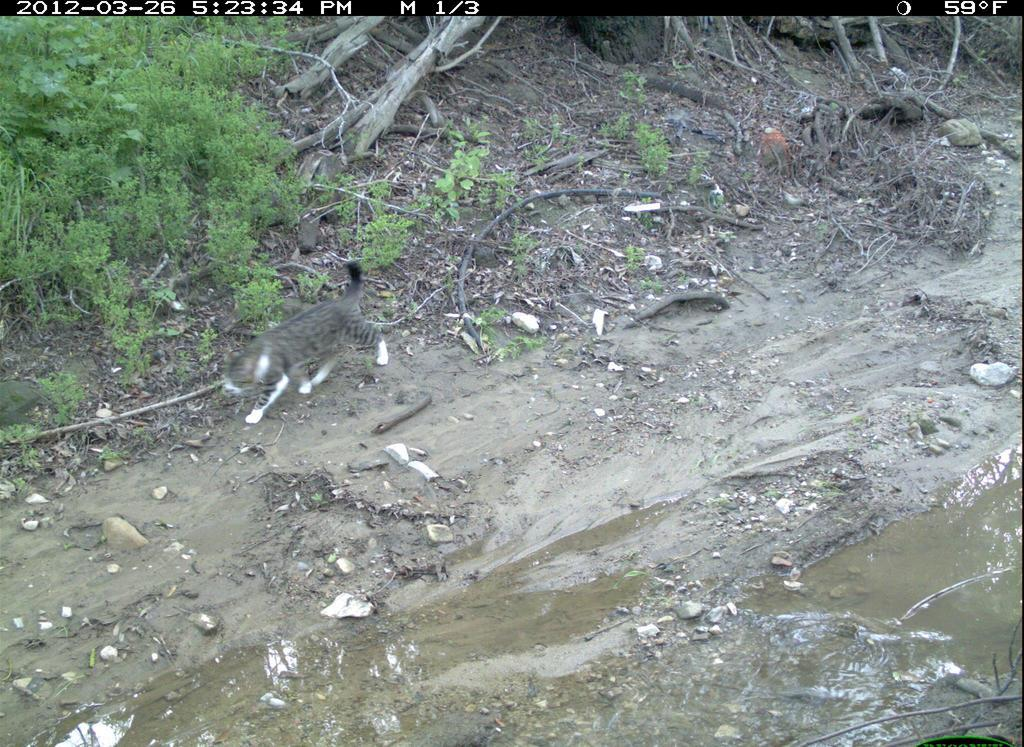cat: (210, 246, 422, 433)
